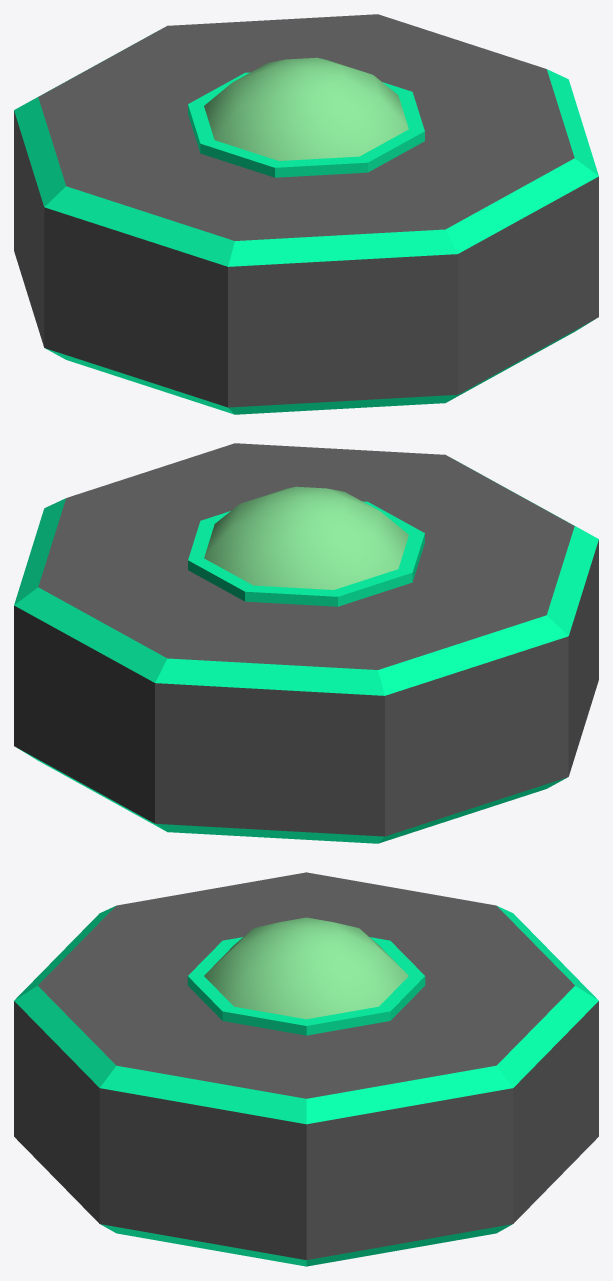
File: GreenCore.fbx
The picture shows the model from 3 angles, top to bottom: view 1: azimuth 30°, elevation 25°; view 2: azimuth 150°, elevation 25°; view 3: azimuth 270°, elevation 25°; orthographic projection. The views are drawn at different scales.
Parts seen in each view (by area): view 1: polySurface9; view 2: polySurface9; view 3: polySurface9.
Part boxes in pixels (x1=…): polySurface9: x1=14, y1=14, x2=598, y2=414; polySurface9: x1=14, y1=443, x2=598, y2=843; polySurface9: x1=14, y1=872, x2=598, y2=1266.
Bounding box in the file's own units: 3.35 × 1.42 × 3.35.
